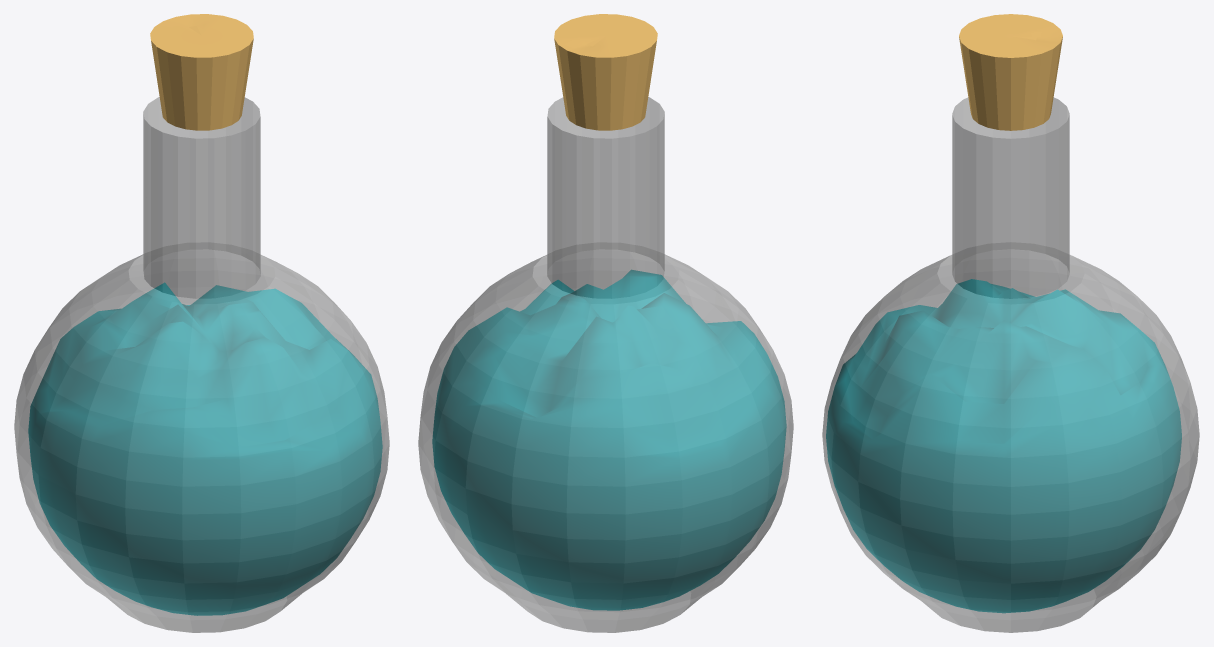
The model's file is Potion Bottle.fbx.
3 renders of one model, left to right at view 1: azimuth 30°, elevation 25°; view 2: azimuth 150°, elevation 25°; view 3: azimuth 270°, elevation 25°, orthographic.
Visible parts, largest first — view 1: Bottle, Liquid, Cork; view 2: Bottle, Liquid, Cork; view 3: Bottle, Liquid, Cork.
Part boxes in pixels (box(x1,y1,x2,y2)): Bottle: box(14, 97, 389, 632); Liquid: box(28, 282, 382, 615); Cork: box(150, 14, 253, 130); Bottle: box(418, 97, 793, 632); Liquid: box(432, 269, 786, 610); Cork: box(554, 14, 657, 130); Bottle: box(822, 97, 1199, 632); Liquid: box(826, 279, 1181, 613); Cork: box(959, 14, 1062, 130).
Size of the model in its own units: 12.52 by 20.52 by 12.52.
